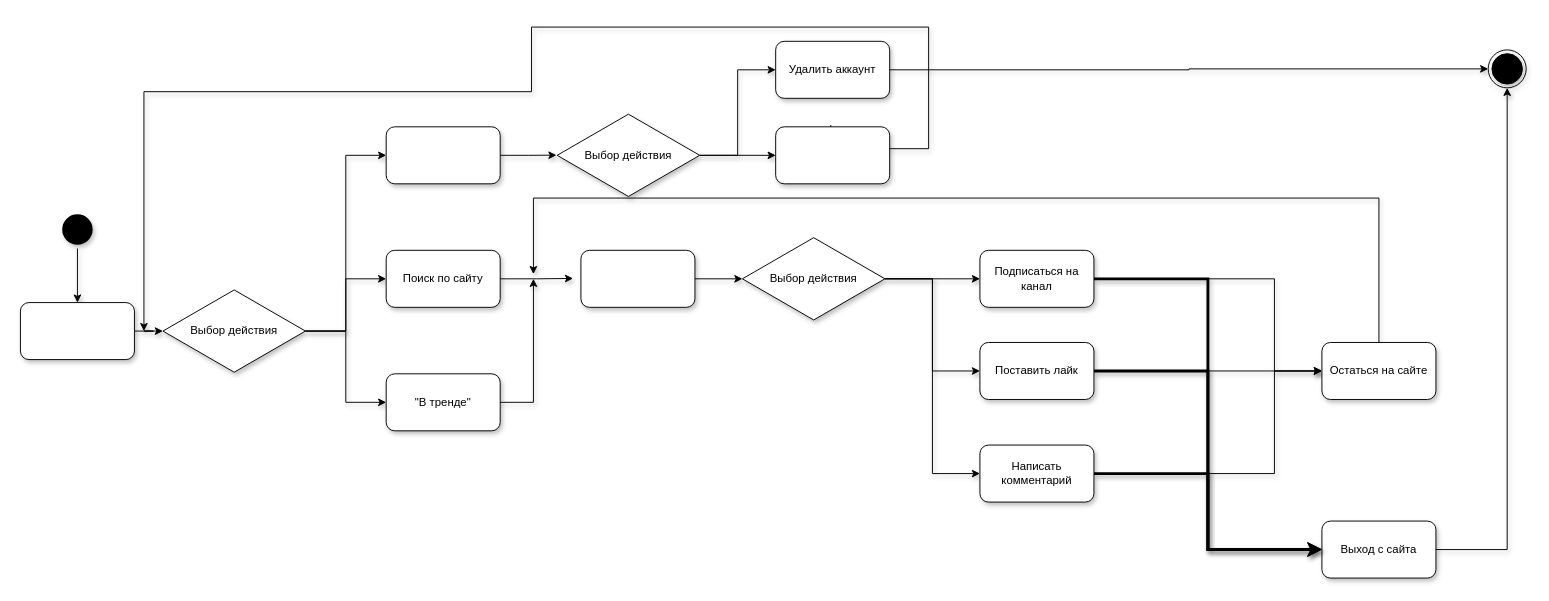
This 1549x601 diagram has some shape labels left out. Each missing label, with the centre of its shape:
"Вход на сайт" goes at pixel 78 332.
"Загрузить видео" goes at pixel 833 156.
"Настройки аккаунта" goes at pixel 443 156.
"Просмотр видео" goes at pixel 638 280.
